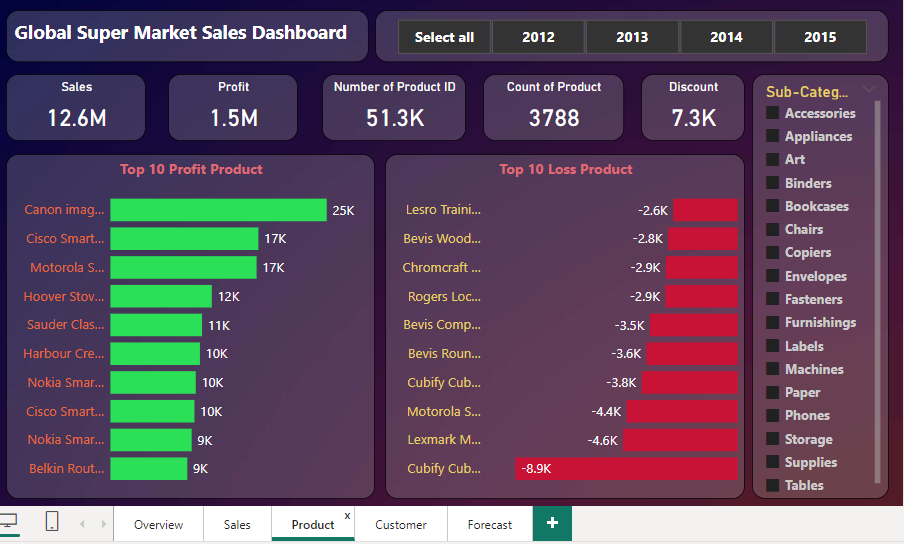

Layout of this report page (visuals, bound fields, positions):
{"tool":"powerbi","page":{"name":"Product","canvas":[1280,720],"ordinal":2},"visuals":[{"type":"textbox","box":[10.1,16.8,514,73.9],"z":0},{"type":"slicer","fields":{"Values":["Orders.Order Date.Variation.Date Hierarchy.Year"]},"box":[533.5,17.2,728,74.4],"z":1000},{"type":"card","title":"Number of Product ID","fields":{"Values":["CountNonNull(Orders.Product ID)"]},"box":[457.8,107.7,204.1,95],"z":2000},{"type":"card","title":"Count of Product","fields":{"Values":["Count(Orders.Product Name)"]},"box":[686,107.7,199.8,95],"z":3000},{"type":"barChart","title":"Top 10 Profit Product","fields":{"Category":["Orders.Product Name"],"Y":["Sum(Orders.Profit)"]},"box":[9.9,221.1,523,489],"z":4000},{"type":"barChart","title":"Top 10 Loss Product","fields":{"Category":["Orders.Product Name"],"Y":["Sum(Orders.Profit)"]},"box":[547.1,221.1,510.2,489],"z":5000},{"type":"card","title":"Sales","fields":{"Values":["Sum(Orders.Sales)"]},"box":[9.9,107.7,198.4,95],"z":6000},{"type":"card","title":"Profit","fields":{"Values":["Sum(Orders.Profit)"]},"box":[239.5,107.7,184.3,95],"z":7000},{"type":"slicer","fields":{"Values":["Orders.Sub-Category"]},"box":[1067.2,107.7,194.2,602.4],"z":8000},{"type":"card","title":"Discount","fields":{"Values":["Sum(Orders.Discount)"]},"box":[909.9,107.7,147.4,95],"z":9000}]}

Visuals, with their boxes on the page's 1280x720 design canvas (x1, y1, x2, y2). These are canvas units, not pixel positions in the 904x544 screenshot, which may show the page scaled, cropped or inside an application window:
textbox: {"x1": 10, "y1": 17, "x2": 524, "y2": 91}
slicer - Orders.Order Date.Variation.Date Hierarchy.Year: {"x1": 534, "y1": 17, "x2": 1262, "y2": 92}
"Number of Product ID" card: {"x1": 458, "y1": 108, "x2": 662, "y2": 203}
"Count of Product" card: {"x1": 686, "y1": 108, "x2": 886, "y2": 203}
"Top 10 Profit Product" barChart: {"x1": 10, "y1": 221, "x2": 533, "y2": 710}
"Top 10 Loss Product" barChart: {"x1": 547, "y1": 221, "x2": 1057, "y2": 710}
"Sales" card: {"x1": 10, "y1": 108, "x2": 208, "y2": 203}
"Profit" card: {"x1": 240, "y1": 108, "x2": 424, "y2": 203}
slicer - Orders.Sub-Category: {"x1": 1067, "y1": 108, "x2": 1261, "y2": 710}
"Discount" card: {"x1": 910, "y1": 108, "x2": 1057, "y2": 203}
